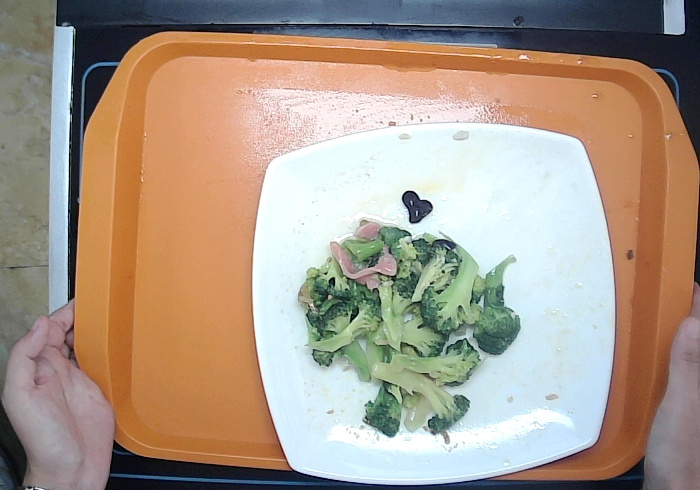ZNLD-Bai_Fang_Pan: (239, 109, 622, 490)
